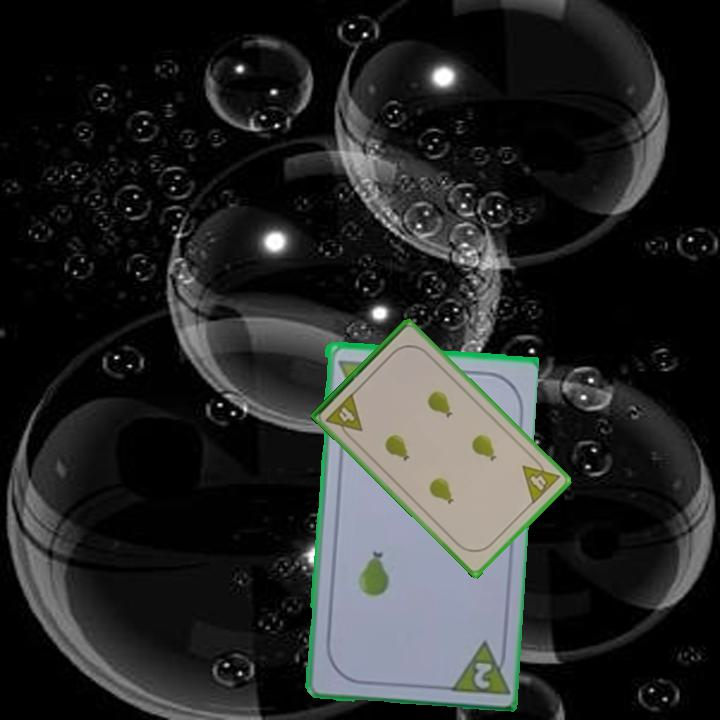2p: (444, 635, 510, 698)
4p: (519, 452, 563, 507), (322, 389, 366, 443)
